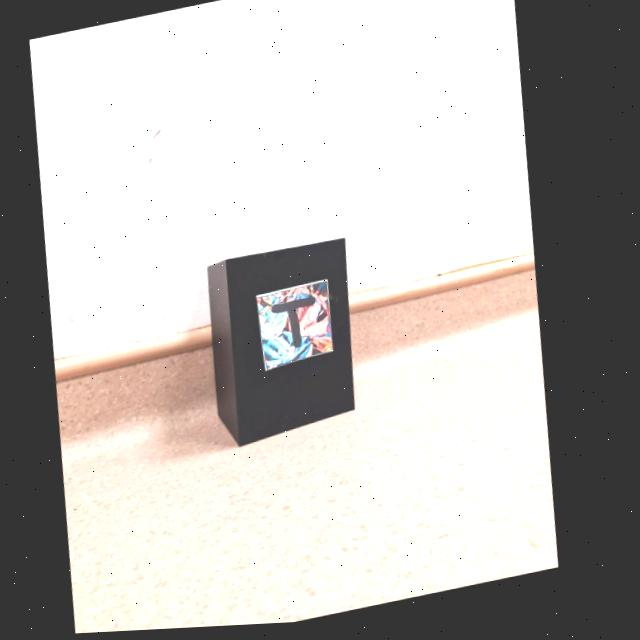T: (277, 302, 322, 353)
